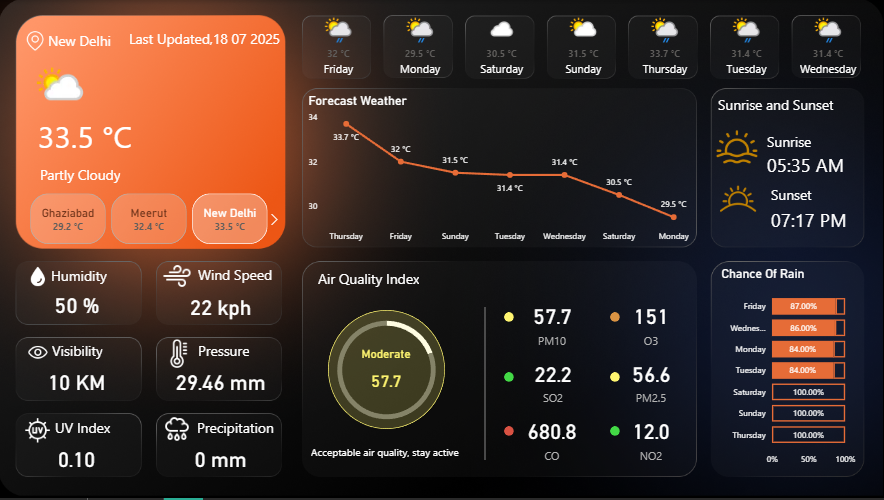

What the dashboard file says about the page in this screenshot:
{"tool":"powerbi","page":{"name":"Page 1","canvas":[1280,720],"ordinal":0},"visuals":[{"type":"donutChart","fields":{"Y":["Sum(Current.current.air_quality.pm10)","_Measures.Left_Value_PM10"]},"box":[462.5,440.3,195.2,188],"z":0},{"type":"shape","box":[475.5,447.6,169.2,172],"z":1000},{"type":"advancedSlicerVisual","fields":{"Values":["Location.location.name"]},"box":[19.8,275.2,393.7,83.6],"z":2000},{"type":"cardVisual","fields":{"Data":["Min(Current.current.condition.icon)"]},"box":[31.9,69.9,145.9,117.1],"z":3000},{"type":"shape","box":[56.4,163.4,164.8,63.6],"z":4000},{"type":"shape","box":[59.3,235.7,198.1,30.4],"z":5000},{"type":"shape","box":[70.8,41.9,107,30.4],"z":6000},{"type":"shape","box":[170.9,39.6,235.7,30.1],"z":7000},{"type":"image","box":[33.3,39,37.6,39],"z":8000},{"type":"shape","box":[75.2,381.7,107,30.4],"z":9000},{"type":"shape","box":[287.7,380.2,128.7,30.4],"z":10000},{"type":"shape","box":[76.6,490.1,107,30.4],"z":11000},{"type":"shape","box":[287.7,490.1,107,30.4],"z":12000},{"type":"shape","box":[286.3,601.4,128.7,30.4],"z":13000},{"type":"shape","box":[81,601.4,107,30.4],"z":14000},{"type":"image","box":[31.8,597.1,47.7,49.2],"z":15000},{"type":"image","box":[36.1,378.8,40.5,41.9],"z":16000},{"type":"image","box":[34.7,485.8,43.4,47.7],"z":17000},{"type":"image","box":[231.3,594.2,52,52],"z":18000},{"type":"image","box":[231.3,485.8,56.4,50.6],"z":19000},{"type":"image","box":[231.3,373,52,52],"z":20000},{"type":"card","fields":{"Values":["_Measures.Humidity"]},"box":[36.1,409.2,151.8,60.7],"z":21000},{"type":"card","fields":{"Values":["_Measures.Wind_Speed"]},"box":[243.7,411.4,151.9,61.7],"z":22000},{"type":"card","fields":{"Values":["_Measures.Pressure"]},"box":[243.7,520.5,151.9,60.1],"z":23000},{"type":"card","fields":{"Values":["_Measures.Visiblity"]},"box":[36.4,520.5,151.9,60.1],"z":24000},{"type":"card","fields":{"Values":["Sum(Current.current.uv)"]},"box":[36.4,631.3,151.9,60.1],"z":25000},{"type":"card","fields":{"Values":["_Measures.Precipition"]},"box":[243.7,631.3,151.9,60.1],"z":26000},{"type":"advancedSlicerVisual","fields":{"Values":["Forecast_Day.Day_Name"]},"box":[430.2,13.7,830,114],"z":27000},{"type":"lineChart","title":"Forecast Weather","fields":{"Y":["Avg(Forecast_Day.forecast.forecastday.day.avgtemp_c)"],"Category":["Forecast_Day.Day_Name"]},"box":[442.4,134.5,569.6,225.5],"z":28000},{"type":"shape","box":[1039.8,133.8,194.6,30.4],"z":29000},{"type":"shape","box":[1109.7,205.2,164.2,63.8],"z":30000},{"type":"shape","box":[1115.8,284.3,164.2,63.8],"z":31000},{"type":"image","box":[1026.5,247.2,83.9,79.5],"z":32000},{"type":"image","box":[1029.4,177.8,75.2,69.4],"z":33000},{"type":"shape","box":[1109.7,188.5,127.7,30.4],"z":34000},{"type":"shape","box":[1115.8,264.5,127.7,30.4],"z":35000},{"type":"hundredPercentStackedBarChart","title":"Chance Of Rain","fields":{"Y":["Sum(Forecast_Day.forecast.forecastday.day.daily_chance_of_rain)","_Measures.Left_Value_Rain"],"Category":["Forecast_Day.Day_Name"]},"box":[1039.5,384.6,203.9,297.8],"z":36000},{"type":"shape","box":[461.2,386,195.2,30.4],"z":37000},{"type":"card","fields":{"Values":["Sum(Current.current.air_quality.o3)"]},"box":[865.6,428,153.3,78.1],"z":38000},{"type":"card","fields":{"Values":["Sum(Current.current.air_quality.pm2_5)"]},"box":[865.6,506,153.3,88.2],"z":39000},{"type":"card","fields":{"Values":["Sum(Current.current.air_quality.no2)"]},"box":[865.6,594.2,153.3,78.1],"z":40000},{"type":"card","fields":{"Values":["Sum(Current.current.air_quality.so2)"]},"box":[723.8,506,153.3,88.2],"z":41000},{"type":"card","fields":{"Values":["Sum(Current.current.air_quality.pm10)"]},"box":[722.3,428,153.3,78.1],"z":42000},{"type":"card","fields":{"Values":["Sum(Current.current.air_quality.co)"]},"box":[722.3,594.2,153.3,78.1],"z":43000},{"type":"shape","box":[729.6,451.1,14.5,14.5],"z":44000},{"type":"shape","box":[882.9,615.9,14.5,14.5],"z":45000},{"type":"shape","box":[882.9,537.8,14.5,14.5],"z":46000},{"type":"shape","box":[882.9,451.1,14.5,14.5],"z":47000},{"type":"shape","box":[729.6,615.9,14.5,14.5],"z":48000},{"type":"shape","box":[729.6,537.8,14.5,14.5],"z":49000},{"type":"shape","box":[689.6,443.9,26,221.2],"z":50000},{"type":"card","fields":{"Values":["Sum(Current.current.air_quality.pm10)"]},"box":[500.1,501.1,118.6,78.1],"z":51000},{"type":"shape","box":[451.1,634.7,253,37.6],"z":52000}]}

Visuals, with their boxes in screenshot pixels (x1, y1, x2, y2), scaled from the page's 1280x720 canvas onto the 884x500 screenshot:
donutChart - Sum(Current.current.air_quality.pm10) x _Measures.Left_Value_PM10: bbox=[319, 306, 454, 436]
shape: bbox=[328, 311, 445, 430]
advancedSlicerVisual - Location.location.name: bbox=[14, 191, 286, 249]
cardVisual - Min(Current.current.condition.icon): bbox=[22, 49, 123, 130]
shape: bbox=[39, 113, 153, 158]
shape: bbox=[41, 164, 178, 185]
shape: bbox=[49, 29, 123, 50]
shape: bbox=[118, 28, 281, 48]
image: bbox=[23, 27, 49, 54]
shape: bbox=[52, 265, 126, 286]
shape: bbox=[199, 264, 288, 285]
shape: bbox=[53, 340, 127, 361]
shape: bbox=[199, 340, 273, 361]
shape: bbox=[198, 418, 287, 439]
shape: bbox=[56, 418, 130, 439]
image: bbox=[22, 415, 55, 449]
image: bbox=[25, 263, 53, 292]
image: bbox=[24, 337, 54, 370]
image: bbox=[160, 413, 196, 449]
image: bbox=[160, 337, 199, 372]
image: bbox=[160, 259, 196, 295]
card - _Measures.Humidity: bbox=[25, 284, 130, 326]
card - _Measures.Wind_Speed: bbox=[168, 286, 273, 329]
card - _Measures.Pressure: bbox=[168, 361, 273, 403]
card - _Measures.Visiblity: bbox=[25, 361, 130, 403]
card - Sum(Current.current.uv): bbox=[25, 438, 130, 480]
card - _Measures.Precipition: bbox=[168, 438, 273, 480]
advancedSlicerVisual - Forecast_Day.Day_Name: bbox=[297, 10, 870, 89]
"Forecast Weather" lineChart: bbox=[306, 93, 699, 250]
shape: bbox=[718, 93, 853, 114]
shape: bbox=[766, 142, 880, 187]
shape: bbox=[771, 197, 883, 242]
image: bbox=[709, 172, 767, 227]
image: bbox=[711, 123, 763, 172]
shape: bbox=[766, 131, 855, 152]
shape: bbox=[771, 184, 859, 205]
"Chance Of Rain" hundredPercentStackedBarChart: bbox=[718, 267, 859, 474]
shape: bbox=[319, 268, 453, 289]
card - Sum(Current.current.air_quality.o3): bbox=[598, 297, 704, 351]
card - Sum(Current.current.air_quality.pm2_5): bbox=[598, 351, 704, 413]
card - Sum(Current.current.air_quality.no2): bbox=[598, 413, 704, 467]
card - Sum(Current.current.air_quality.so2): bbox=[500, 351, 606, 413]
card - Sum(Current.current.air_quality.pm10): bbox=[499, 297, 605, 351]
card - Sum(Current.current.air_quality.co): bbox=[499, 413, 605, 467]
shape: bbox=[504, 313, 514, 323]
shape: bbox=[610, 428, 620, 438]
shape: bbox=[610, 373, 620, 384]
shape: bbox=[610, 313, 620, 323]
shape: bbox=[504, 428, 514, 438]
shape: bbox=[504, 373, 514, 384]
shape: bbox=[476, 308, 494, 462]
card - Sum(Current.current.air_quality.pm10): bbox=[345, 348, 427, 402]
shape: bbox=[312, 441, 486, 467]
